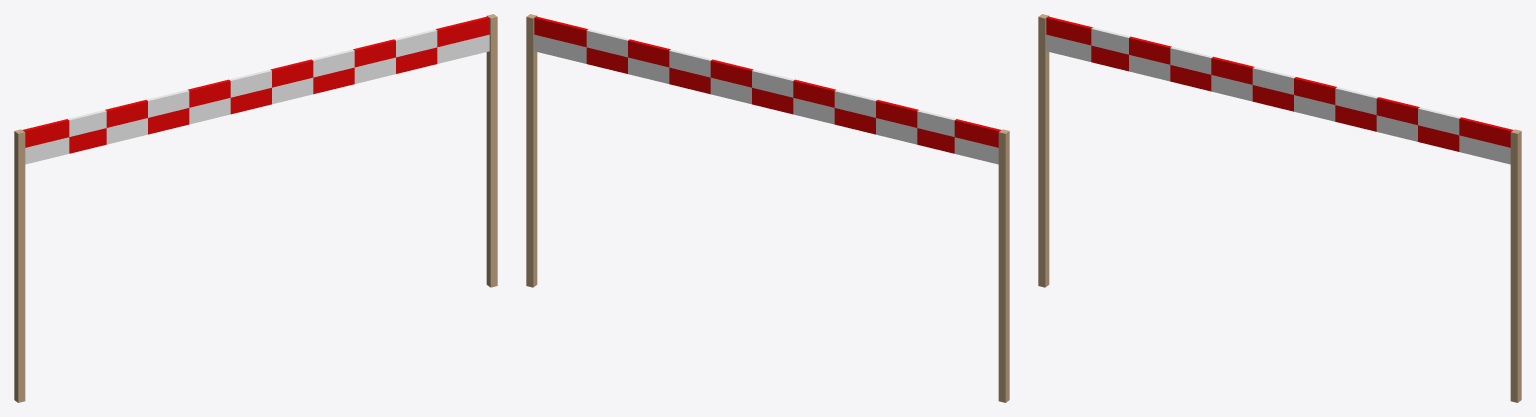
File: checkpoint.fbx
The picture shows the model from 3 angles, left to right: view 1: azimuth 30°, elevation 25°; view 2: azimuth 150°, elevation 25°; view 3: azimuth 330°, elevation 25°; orthographic projection.
Visible parts, largest first — view 1: Model; view 2: Model; view 3: Model.
Boxes of the visible parts, <box> form: Model: <box>14,14,497,402</box>; Model: <box>526,14,1009,402</box>; Model: <box>1038,14,1521,402</box>.
Bounding box in the file's own units: 20.88 × 11.2 × 0.3.
